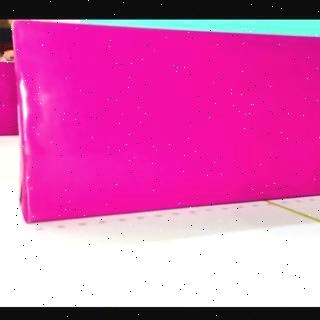xparking: (28, 36, 320, 224), (4, 67, 17, 137)
